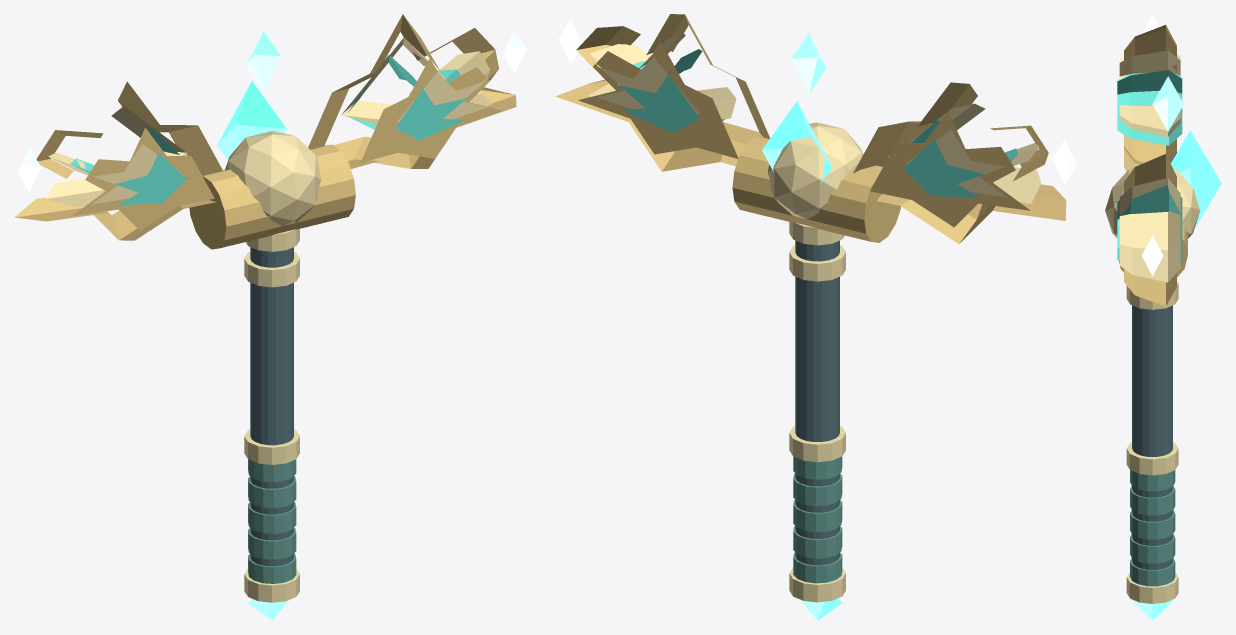
File: pick_supreme_concept_v1.glb
3 views of the same model, side by side, from view 1: azimuth 30°, elevation 25°; view 2: azimuth 150°, elevation 25°; view 3: azimuth 270°, elevation 25° (orthographic). The views are drawn at different scales.
Parts seen in each view (by area): view 1: CrownedJadeBlade_left_17, CrownedJadeBlade_right_16, ForgedHandle_1, CrossHeadBridge_13, GemHousing_14, AuricBladeTrim_left_19, AuricBladeTrim_right_18, SovereignJadeCore_right_20, HeartOfTheSovereign_22, SovereignJadeCore_left_21, MetalCollar_9, MetalCollar_8 (+8 smaller); view 2: CrownedJadeBlade_left_17, CrownedJadeBlade_right_16, ForgedHandle_1, CrossHeadBridge_13, GemHousing_14, AuricBladeTrim_left_19, AuricBladeTrim_right_18, SovereignJadeCore_right_20, SovereignJadeCore_left_21, HeartOfTheSovereign_22, MetalCollar_9, MetalCollar_8 (+8 smaller); view 3: ForgedHandle_1, AuricBladeTrim_right_18, SovereignJadeCore_left_21, AuricBladeTrim_left_19, CrownedJadeBlade_left_17, CrownedJadeBlade_right_16, HeartOfTheSovereign_22, GemHousing_14, SovereignJadeCore_right_20, MetalCollar_8, MetalCollar_7, RoyalTopGem_23 (+9 smaller).
Boxes of the visible parts, left/top/right/bottom form: CrownedJadeBlade_left_17: left=14, top=81, right=222, bottom=240; CrownedJadeBlade_right_16: left=308, top=14, right=516, bottom=168; ForgedHandle_1: left=250, top=247, right=293, bottom=566; CrossHeadBridge_13: left=189, top=144, right=355, bottom=249; GemHousing_14: left=225, top=131, right=321, bottom=226; AuricBladeTrim_left_19: left=46, top=106, right=187, bottom=206; AuricBladeTrim_right_18: left=341, top=37, right=491, bottom=123; SovereignJadeCore_right_20: left=348, top=55, right=467, bottom=141; HeartOfTheSovereign_22: left=217, top=81, right=286, bottom=159; SovereignJadeCore_left_21: left=70, top=116, right=187, bottom=204; MetalCollar_9: left=244, top=251, right=299, bottom=287; MetalCollar_8: left=244, top=429, right=299, bottom=464; CrownedJadeBlade_left_17: left=853, top=82, right=1066, bottom=243; CrownedJadeBlade_right_16: left=555, top=14, right=769, bottom=171; ForgedHandle_1: left=795, top=240, right=839, bottom=565; CrossHeadBridge_13: left=732, top=136, right=901, bottom=242; GemHousing_14: left=767, top=122, right=863, bottom=219; AuricBladeTrim_left_19: left=888, top=103, right=1041, bottom=203; AuricBladeTrim_right_18: left=588, top=32, right=736, bottom=119; SovereignJadeCore_right_20: left=618, top=49, right=724, bottom=132; SovereignJadeCore_left_21: left=903, top=120, right=1017, bottom=197; HeartOfTheSovereign_22: left=762, top=101, right=832, bottom=215; MetalCollar_9: left=789, top=245, right=845, bottom=281; MetalCollar_8: left=789, top=426, right=845, bottom=462; ForgedHandle_1: left=1132, top=305, right=1172, bottom=569; AuricBladeTrim_right_18: left=1119, top=178, right=1180, bottom=282; SovereignJadeCore_left_21: left=1117, top=70, right=1182, bottom=145; AuricBladeTrim_left_19: left=1119, top=50, right=1180, bottom=137; CrownedJadeBlade_left_17: left=1124, top=25, right=1176, bottom=171; CrownedJadeBlade_right_16: left=1124, top=154, right=1176, bottom=306; HeartOfTheSovereign_22: left=1170, top=131, right=1221, bottom=228; GemHousing_14: left=1105, top=168, right=1200, bottom=238; SovereignJadeCore_right_20: left=1117, top=185, right=1182, bottom=263; MetalCollar_8: left=1126, top=442, right=1178, bottom=475; MetalCollar_7: left=1126, top=572, right=1178, bottom=603; RoyalTopGem_23: left=1152, top=76, right=1183, bottom=131.
Size of the model in its own units: 4.95 by 5.43 by 1.06.
